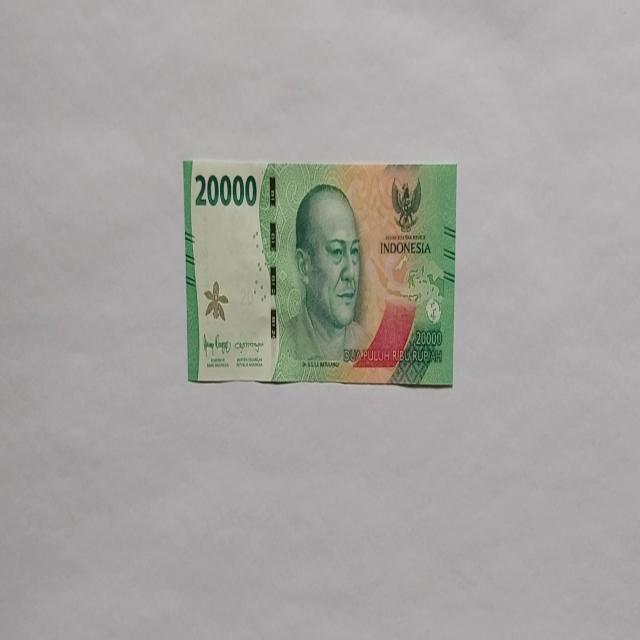dua puluh ribu rupiah: (182, 156, 458, 388)
